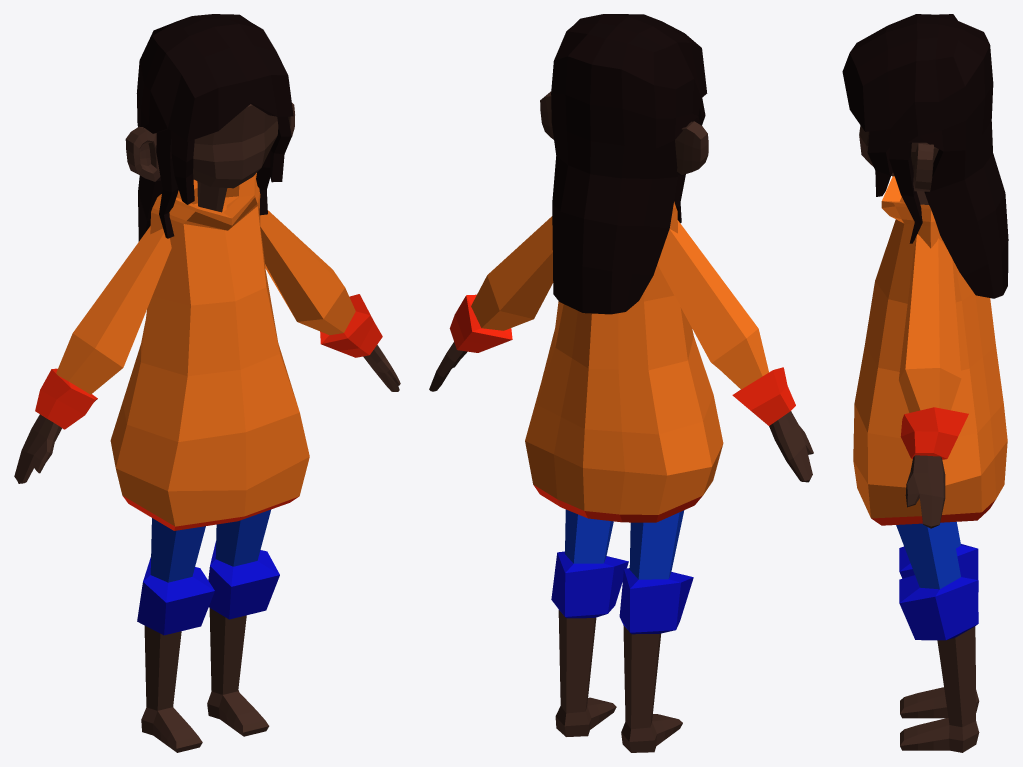
The model's file is GirlLowPoly.obj.
The picture shows the model from 3 angles, left to right: view 1: azimuth 30°, elevation 25°; view 2: azimuth 150°, elevation 25°; view 3: azimuth 270°, elevation 25°; orthographic projection.
Parts seen in each view (by area): view 1: Cube, Cylinder.001, Cylinder, Cube.003, Cube.001, Cube.002, Cylinder.002; view 2: Cube.003, Cube, Cylinder, Cylinder.001, Cube.002; view 3: Cube.003, Cube, Cylinder, Cylinder.001, Cube.002, Cube.001.
Boxes of the visible parts, <box> form: Cube: <box>110,173,309,530</box>; Cylinder.001: <box>14,210,400,483</box>; Cylinder: <box>137,509,279,752</box>; Cube.003: <box>136,14,293,241</box>; Cube.001: <box>156,104,278,188</box>; Cube.002: <box>125,103,294,181</box>; Cylinder.002: <box>197,181,227,212</box>; Cube.003: <box>551,14,707,314</box>; Cube: <box>525,201,723,522</box>; Cylinder: <box>551,509,693,752</box>; Cylinder.001: <box>429,216,813,482</box>; Cube.002: <box>540,91,708,174</box>; Cube.003: <box>842,14,1008,298</box>; Cube: <box>853,176,1007,525</box>; Cylinder: <box>896,521,979,752</box>; Cylinder.001: <box>899,234,968,528</box>; Cube.002: <box>913,143,933,191</box>; Cube.001: <box>859,125,938,176</box>.
Size of the model in its own units: 2.96 by 5.3 by 1.13.
